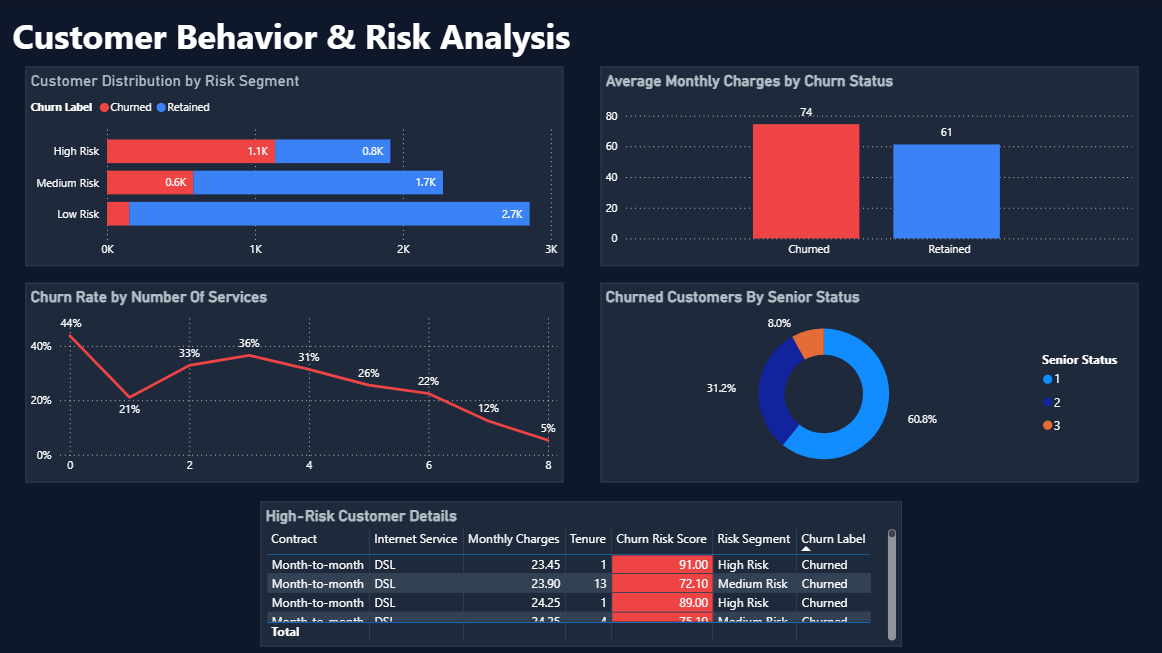

The dashboard page shown, as its layout file describes it:
{"tool":"powerbi","page":{"name":"Page 2","canvas":[1280,720],"ordinal":1},"visuals":[{"type":"textbox","box":[11,9.6,1237.7,64.5],"z":0},{"type":"barChart","title":"Customer Distribution by Risk Segment","fields":{"Category":["churn_dashboard_data.RiskSegment"],"Series":["churn_dashboard_data.Churn_Label"],"Y":["CountNonNull(churn_dashboard_data.Contract)"]},"box":[30.2,74.1,590.1,219.6],"z":1},{"type":"clusteredColumnChart","title":"Average Monthly Charges by Churn Status","fields":{"Category":["churn_dashboard_data.Churn_Label"],"Y":["Avg(churn_dashboard_data.MonthlyCharges)"]},"box":[661.4,74.1,590.1,219.6],"z":2},{"type":"lineChart","title":"Churn Rate by Number Of Services","fields":{"Y":["churn_dashboard_data.Churn Rate"],"Category":["churn_dashboard_data.NumServices"]},"box":[30.2,311.5,590.1,219.6],"z":3},{"type":"donutChart","title":"Churned Customers By Senior Status","fields":{"Category":["churn_dashboard_data.SeniorCitizenLabel"],"Y":["CountNonNull(churn_dashboard_data.Contract)"]},"box":[661.4,311.5,590.1,219.6],"z":4},{"type":"tableEx","title":"High-Risk Customer Details","fields":{"Values":["churn_dashboard_data.Contract","churn_dashboard_data.InternetService","churn_dashboard_data.MonthlyCharges","churn_dashboard_data.tenure","churn_dashboard_data.Churn_Risk_Score","churn_dashboard_data.RiskSegment","churn_dashboard_data.Churn_Label"]},"box":[288.2,551.6,703.9,159.2],"z":5}]}

Visuals, with their boxes in screenshot pixels (x1, y1, x2, y2), scaled from the page's 1280x720 canvas onto the 1162x653 screenshot:
textbox: 10, 9, 1134, 67
"Customer Distribution by Risk Segment" barChart: 27, 67, 563, 266
"Average Monthly Charges by Churn Status" clusteredColumnChart: 600, 67, 1136, 266
"Churn Rate by Number Of Services" lineChart: 27, 283, 563, 482
"Churned Customers By Senior Status" donutChart: 600, 283, 1136, 482
"High-Risk Customer Details" tableEx: 262, 500, 901, 645
